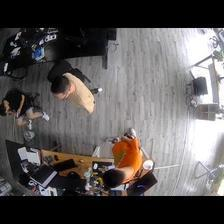normal: (101, 132, 143, 185), (52, 72, 103, 113), (2, 91, 49, 130)
